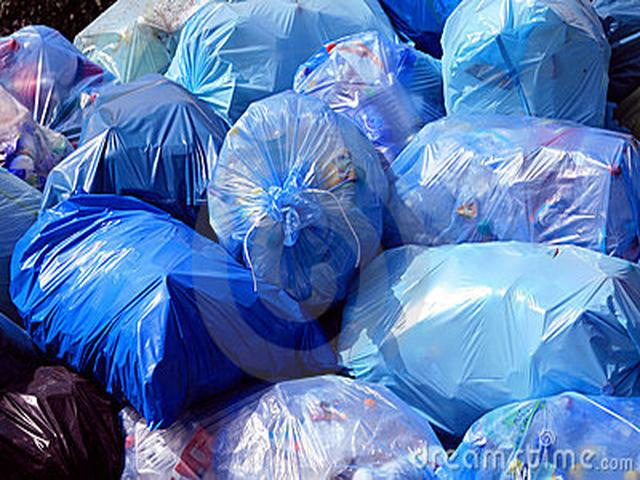garbage: (3, 1, 640, 442)
